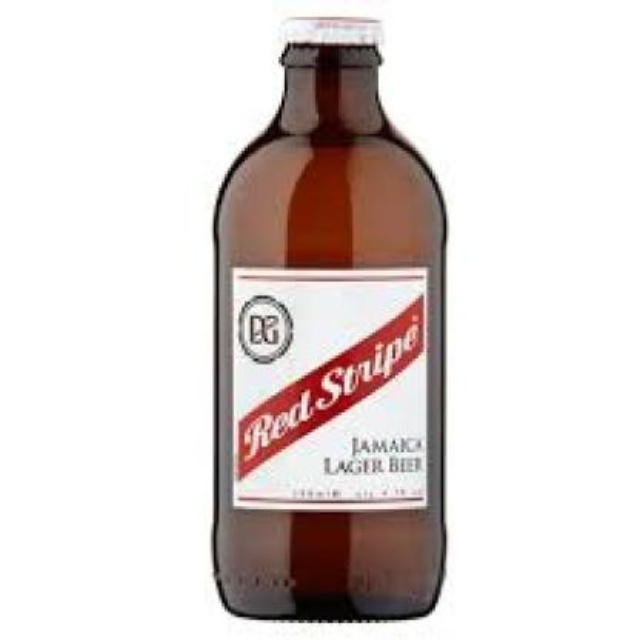trash: (214, 18, 445, 618)
